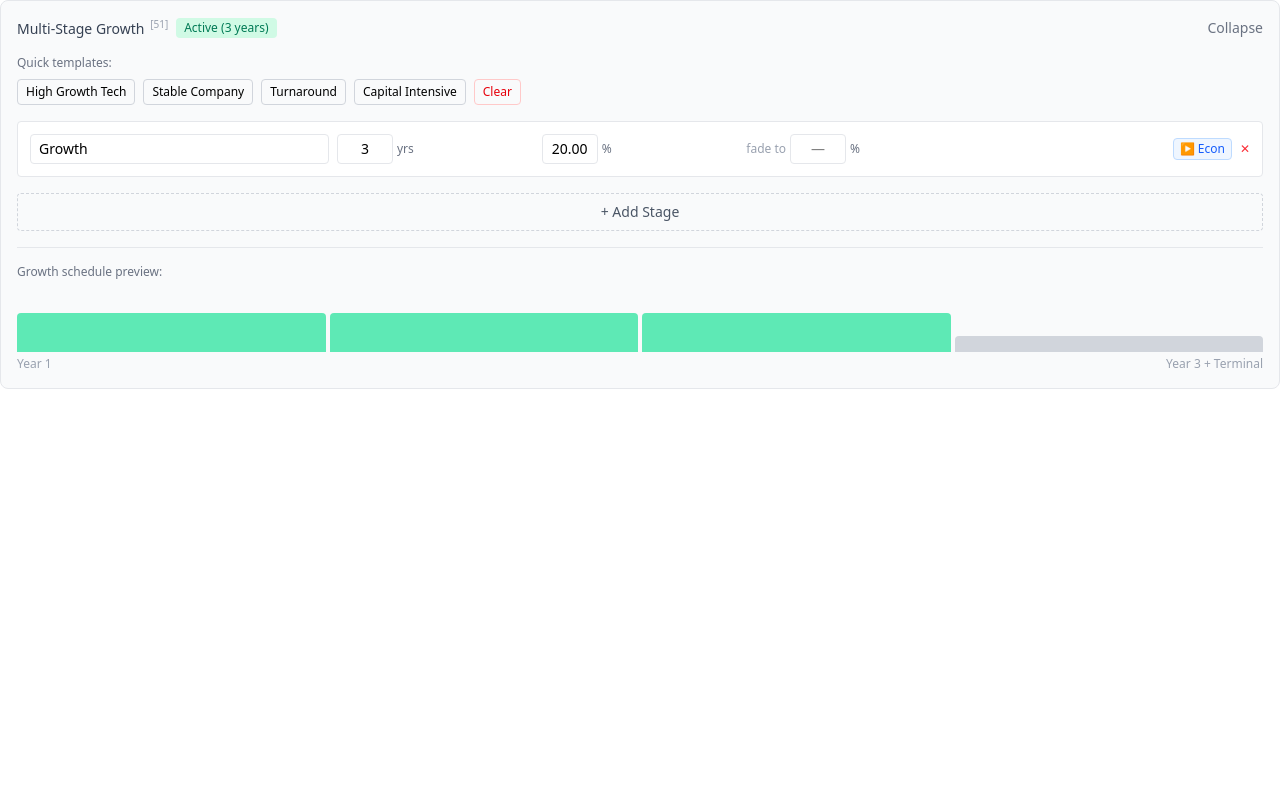
Test: MultiStageGrowth › Economics UI › toggles economics panel visibility
This screenshot has width=1280, height=800.
Check: the text "Op. Margin" is not shown
Click to expand
What coordinates should you click on to do the following:
click the button "▶ Econ"
I would click on:
 (1202, 149)
Its box is 1173,138 -> 1232,160.
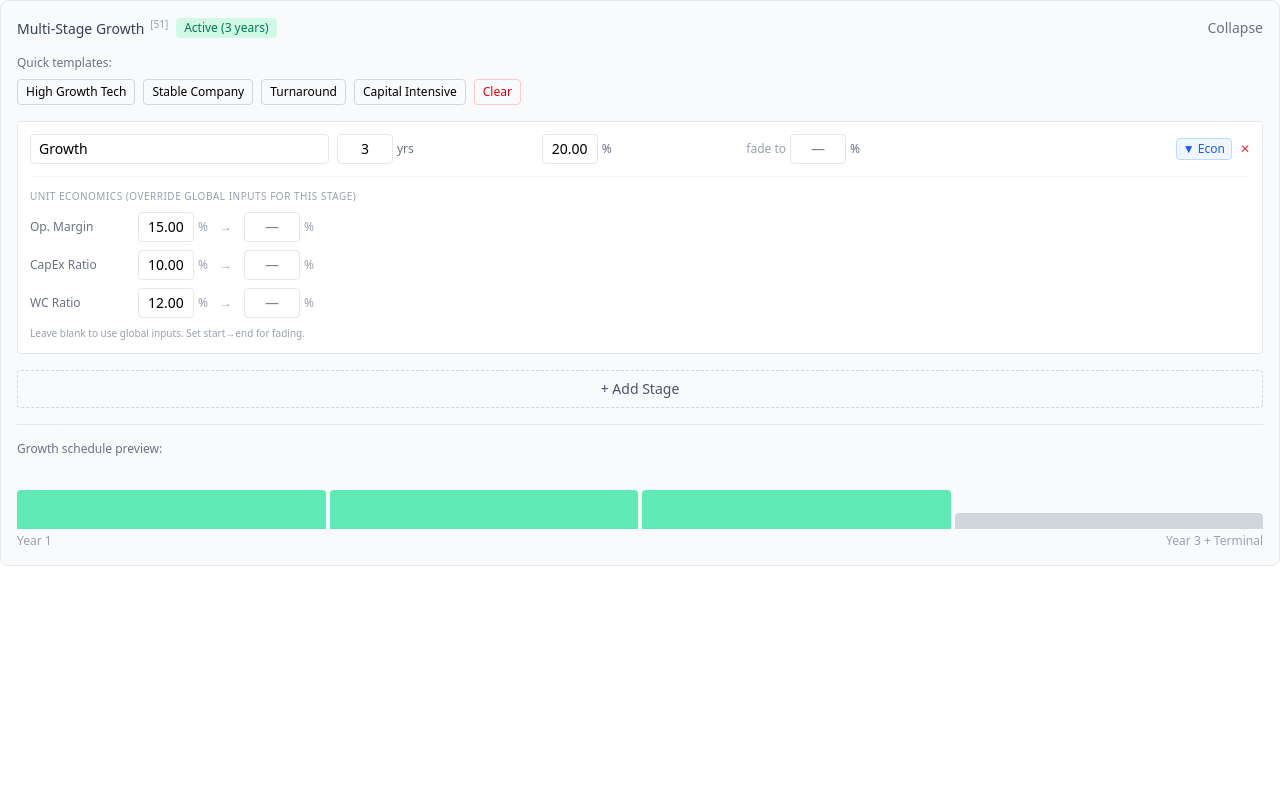
Check: the text "Op. Margin" is shown, box 30,218 -> 93,235
Check: the text "CapEx Ratio" is shown, box 30,256 -> 97,273
Check: the text "WC Ratio" is shown, box 30,294 -> 81,311
